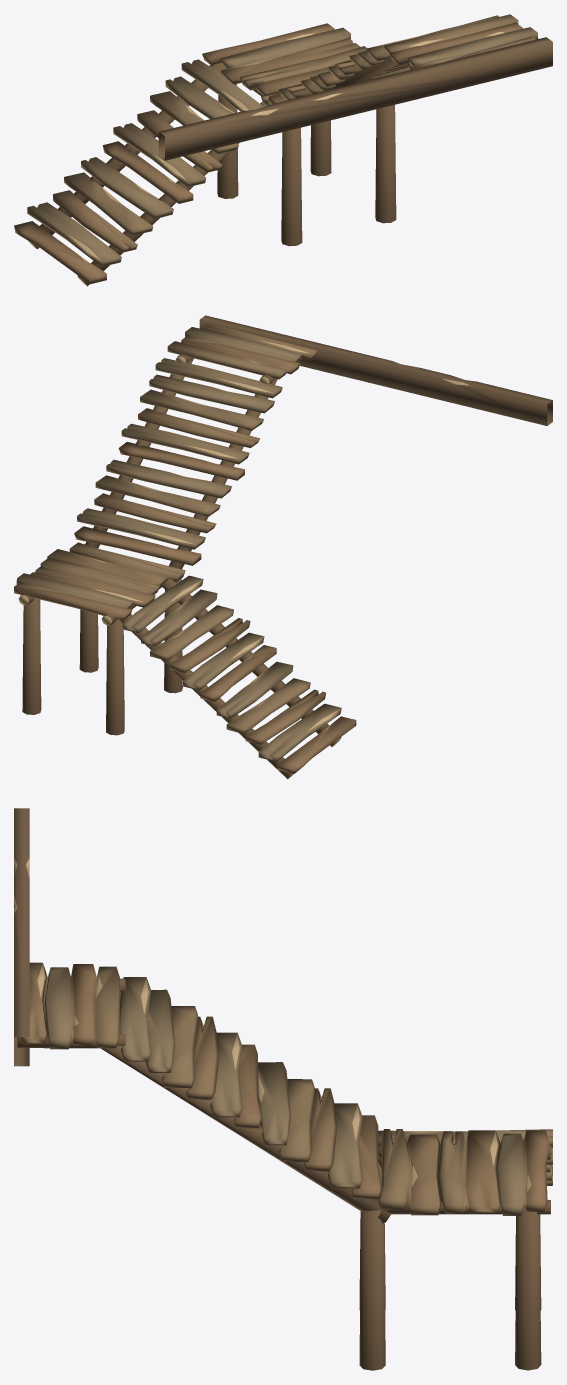
File: rpgpp_ag_stairs_interior_01b_4m.fbx
3 renders of one model, top to bottom at view 1: azimuth 30°, elevation 25°; view 2: azimuth 150°, elevation 25°; view 3: azimuth 270°, elevation 25°, orthographic. The views are drawn at different scales.
Visible parts, largest first — view 1: rpgpp_ag_stairs_interior_01b_4m; view 2: rpgpp_ag_stairs_interior_01b_4m; view 3: rpgpp_ag_stairs_interior_01b_4m.
Part boxes in pixels (x1=…): rpgpp_ag_stairs_interior_01b_4m: x1=14, y1=14, x2=552, y2=286; rpgpp_ag_stairs_interior_01b_4m: x1=14, y1=315, x2=552, y2=779; rpgpp_ag_stairs_interior_01b_4m: x1=14, y1=808, x2=552, y2=1370.
Bounding box in the file's own units: 5.9 × 4.18 × 5.87.
